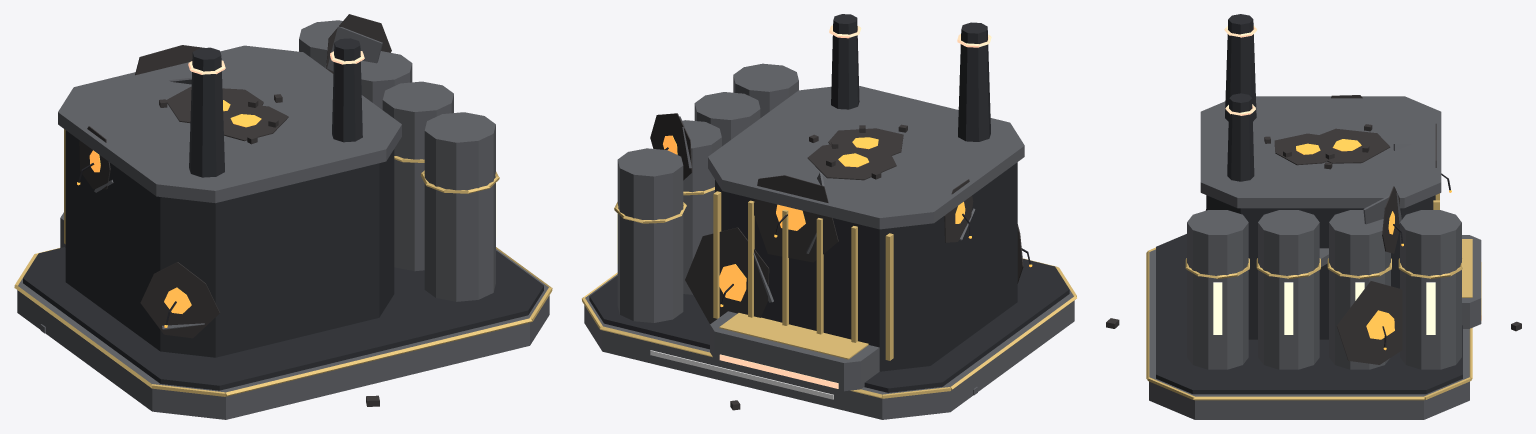
The model's file is Aegis_Refinery.fbx.
The picture shows the model from 3 angles, left to right: view 1: azimuth 30°, elevation 25°; view 2: azimuth 150°, elevation 25°; view 3: azimuth 270°, elevation 25°; orthographic projection. The views are drawn at different scales.
Parts seen in each view (by area): view 1: RF_Main, RF_Roof, RF_PlinthTop, RF_Plinth, RF_Tank0, RF_Tank1, RF_Stack, Aegis_Refinery_DmgScorch0, RF2_Stack, RF_Tank2, RF_PlinthTrim0, Aegis_Refinery_DmgScorch6 (+7 smaller); view 2: RF_Main, RF_Roof, RF_Plinth, RF2_Tank, RF_PlinthTop, RF_Dock, Aegis_Refinery_DmgScorch2, Aegis_Refinery_DmgScorch3, RF_Tank2, RF_Stack, RF_DockStripe, RF2_Stack (+18 smaller); view 3: RF_Roof, RF_PlinthTop, RF_Tank1, RF_Tank0, RF2_Tank, RF_Plinth, RF_Tank2, RF_Main, Aegis_Refinery_DmgScorch4, RF_Stack, RF2_Stack, Aegis_Refinery_DmgScorch7 (+11 smaller).
Boxes of the visible parts, bbox=[...] form: RF_Main: bbox=[65, 130, 394, 357]; RF_Roof: bbox=[58, 45, 401, 203]; RF_PlinthTop: bbox=[23, 247, 543, 390]; RF_Plinth: bbox=[17, 249, 549, 419]; RF_Tank0: bbox=[424, 112, 495, 301]; RF_Tank1: bbox=[382, 81, 453, 271]; RF_Stack: bbox=[189, 47, 224, 177]; Aegis_Refinery_DmgScorch0: bbox=[140, 262, 219, 338]; RF2_Stack: bbox=[332, 38, 362, 142]; RF_Tank2: bbox=[361, 51, 412, 109]; RF_PlinthTrim0: bbox=[225, 318, 531, 396]; Aegis_Refinery_DmgScorch6: bbox=[223, 103, 288, 141]; RF_Main: bbox=[715, 162, 1017, 371]; RF_Roof: bbox=[708, 86, 1024, 229]; RF_Plinth: bbox=[584, 274, 1074, 419]; RF2_Tank: bbox=[617, 148, 683, 322]; RF_PlinthTop: bbox=[589, 259, 1069, 392]; RF_Dock: bbox=[710, 311, 879, 391]; Aegis_Refinery_DmgScorch2: bbox=[685, 227, 769, 323]; Aegis_Refinery_DmgScorch3: bbox=[754, 175, 838, 262]; RF_Tank2: bbox=[682, 120, 721, 294]; RF_Stack: bbox=[958, 22, 990, 141]; RF_DockStripe: bbox=[719, 313, 868, 359]; RF2_Stack: bbox=[831, 14, 859, 109]; RF_Roof: bbox=[1200, 96, 1441, 208]; RF_PlinthTop: bbox=[1156, 234, 1462, 394]; RF_Tank1: bbox=[1258, 210, 1319, 369]; RF_Tank0: bbox=[1187, 210, 1248, 369]; RF2_Tank: bbox=[1400, 210, 1461, 369]; RF_Plinth: bbox=[1149, 249, 1469, 419]; RF_Tank2: bbox=[1329, 210, 1390, 369]; RF_Main: bbox=[1206, 195, 1435, 339]; Aegis_Refinery_DmgScorch4: bbox=[1337, 281, 1402, 364]; RF_Stack: bbox=[1225, 14, 1256, 121]; RF2_Stack: bbox=[1227, 93, 1254, 181]; Aegis_Refinery_DmgScorch7: bbox=[1313, 128, 1390, 163].
Size of the model in its own units: 3.45 by 2.6 by 3.63.
